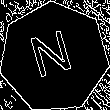N_S: (29, 28, 80, 87)
